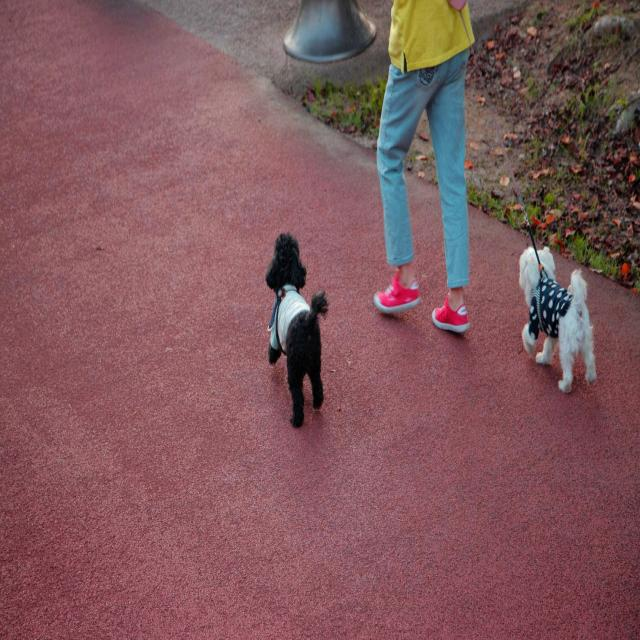Leashed_Dog: (451, 0, 597, 392)
Unleashed_Dog: (265, 212, 401, 426)
